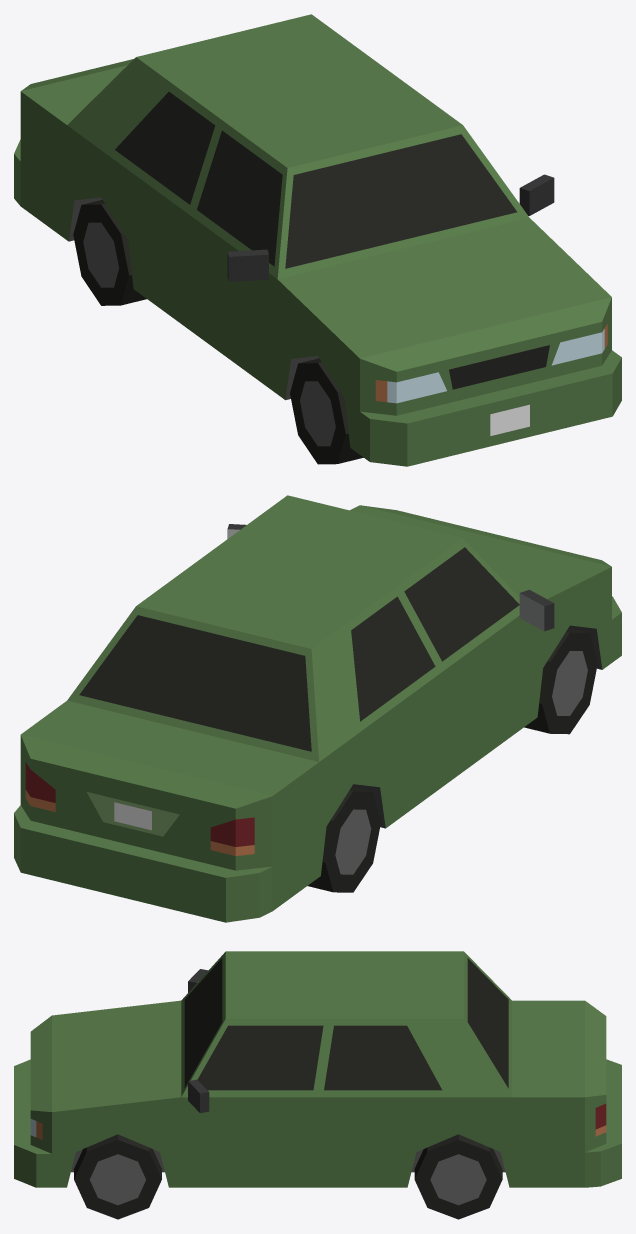
File: Veh_Sedan_01_Green.obj
3 views of the same model, one above another, from view 1: azimuth 30°, elevation 25°; view 2: azimuth 150°, elevation 25°; view 3: azimuth 270°, elevation 25° (orthographic). The views are drawn at different scales.
Bounding box in the file's own units: 1.22 × 0.852 × 2.52.
